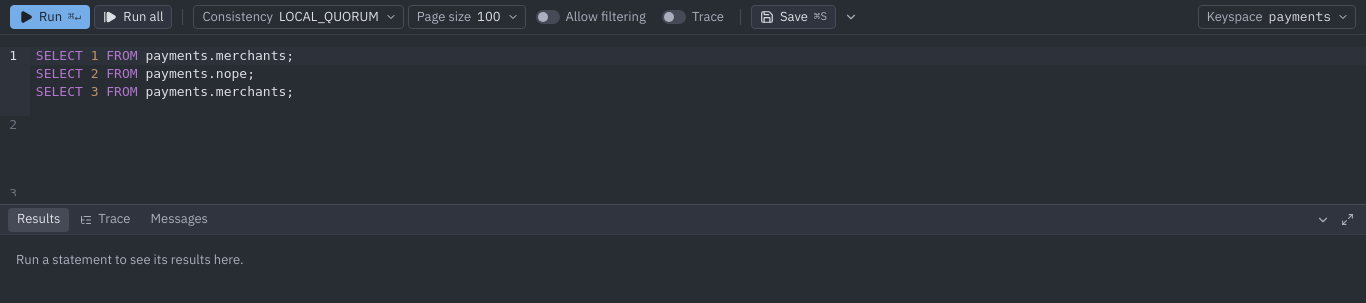
Test: QueryView › runs all statements as one tab each and stops at the first error
This screenshot has width=1366, height=303.
Click the button "Run all" at coordinates (133, 17), box 94,5 -> 172,29
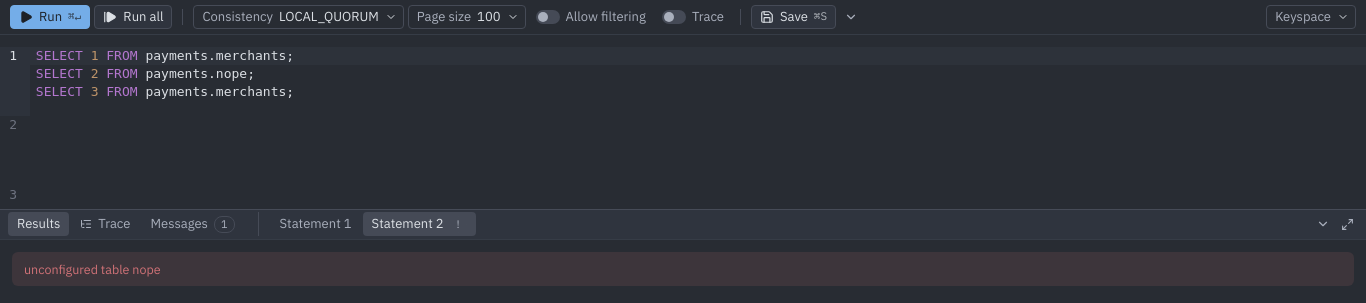
Expected: the tab "Statement 2 !" is shown, 363,212 -> 476,236
Expected: the message reads "unconfigured table nope", 24,260 -> 161,276
